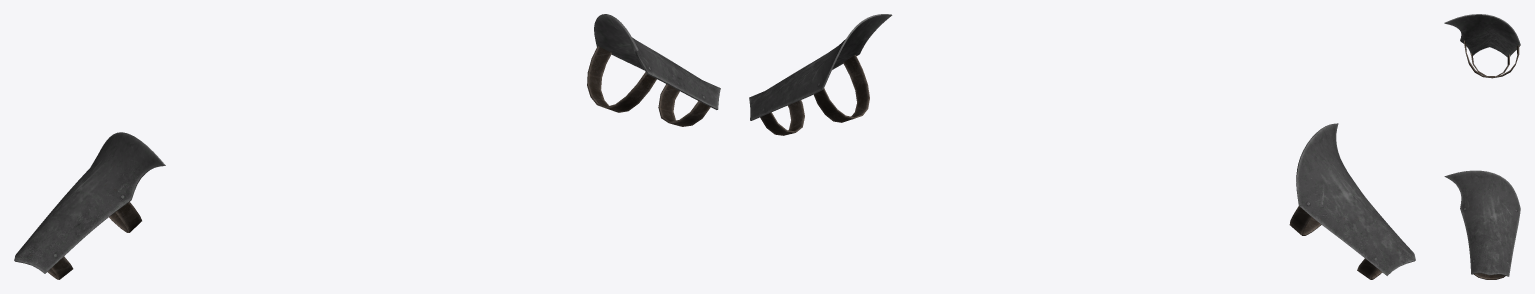
The model's file is sk_uruk_hai_bracer_medium_a1.fbx.
3 renders of one model, left to right at view 1: azimuth 30°, elevation 25°; view 2: azimuth 150°, elevation 25°; view 3: azimuth 270°, elevation 25°, orthographic. The views are drawn at different scales.
Parts seen in each view (by area): view 1: sk_uruk_hai_bracer_medium_a1.0, sk_uruk_hai_bracer_medium_a1.1; view 2: sk_uruk_hai_bracer_medium_a1.0, sk_uruk_hai_bracer_medium_a1.1; view 3: sk_uruk_hai_bracer_medium_a1.0, sk_uruk_hai_bracer_medium_a1.1.
Boxes of the visible parts, box(x1,y1,x2,y2) form: sk_uruk_hai_bracer_medium_a1.0: box(14, 14, 720, 273); sk_uruk_hai_bracer_medium_a1.1: box(48, 46, 710, 279); sk_uruk_hai_bracer_medium_a1.0: box(749, 14, 1415, 275); sk_uruk_hai_bracer_medium_a1.1: box(760, 55, 1382, 279); sk_uruk_hai_bracer_medium_a1.0: box(1444, 14, 1520, 276); sk_uruk_hai_bracer_medium_a1.1: box(1464, 40, 1519, 279).
Bounding box in the file's own units: 1.38 × 0.1954 × 0.2428.
2 materials, 2 textured.
